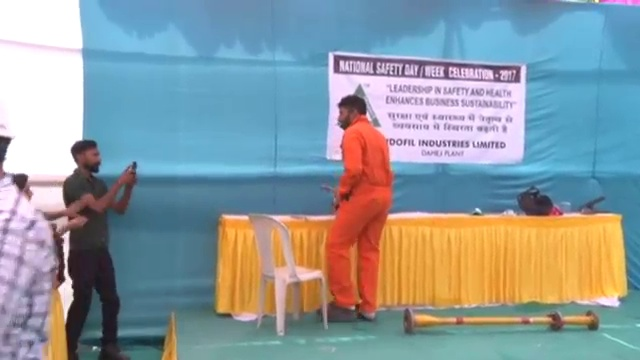helmet_off: (70, 138, 102, 176), (337, 94, 367, 131)
person: (63, 135, 144, 360), (1, 104, 59, 360), (329, 93, 392, 322)
